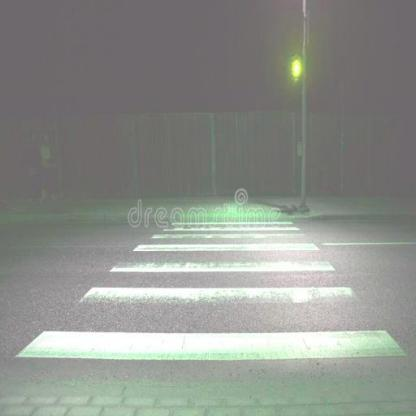crosswalk: (80, 257, 362, 312)
